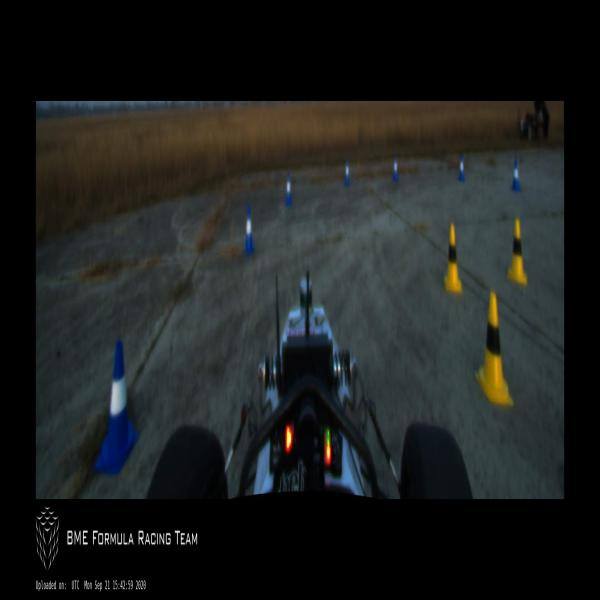blue_cone: (94, 340, 138, 476), (243, 205, 255, 254), (512, 158, 521, 192), (284, 175, 292, 206), (458, 153, 466, 182), (344, 160, 350, 188), (392, 156, 398, 183)
yellow_cone: (474, 293, 513, 408), (508, 218, 527, 284), (444, 225, 462, 294)
